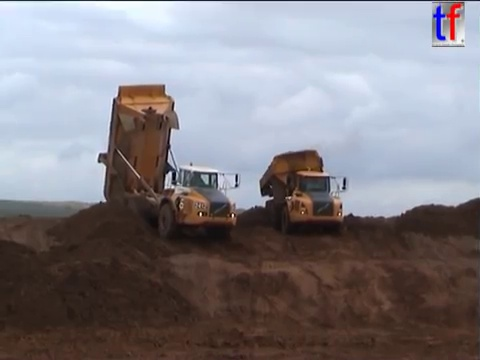truck: (95, 80, 243, 243), (257, 148, 350, 236)
